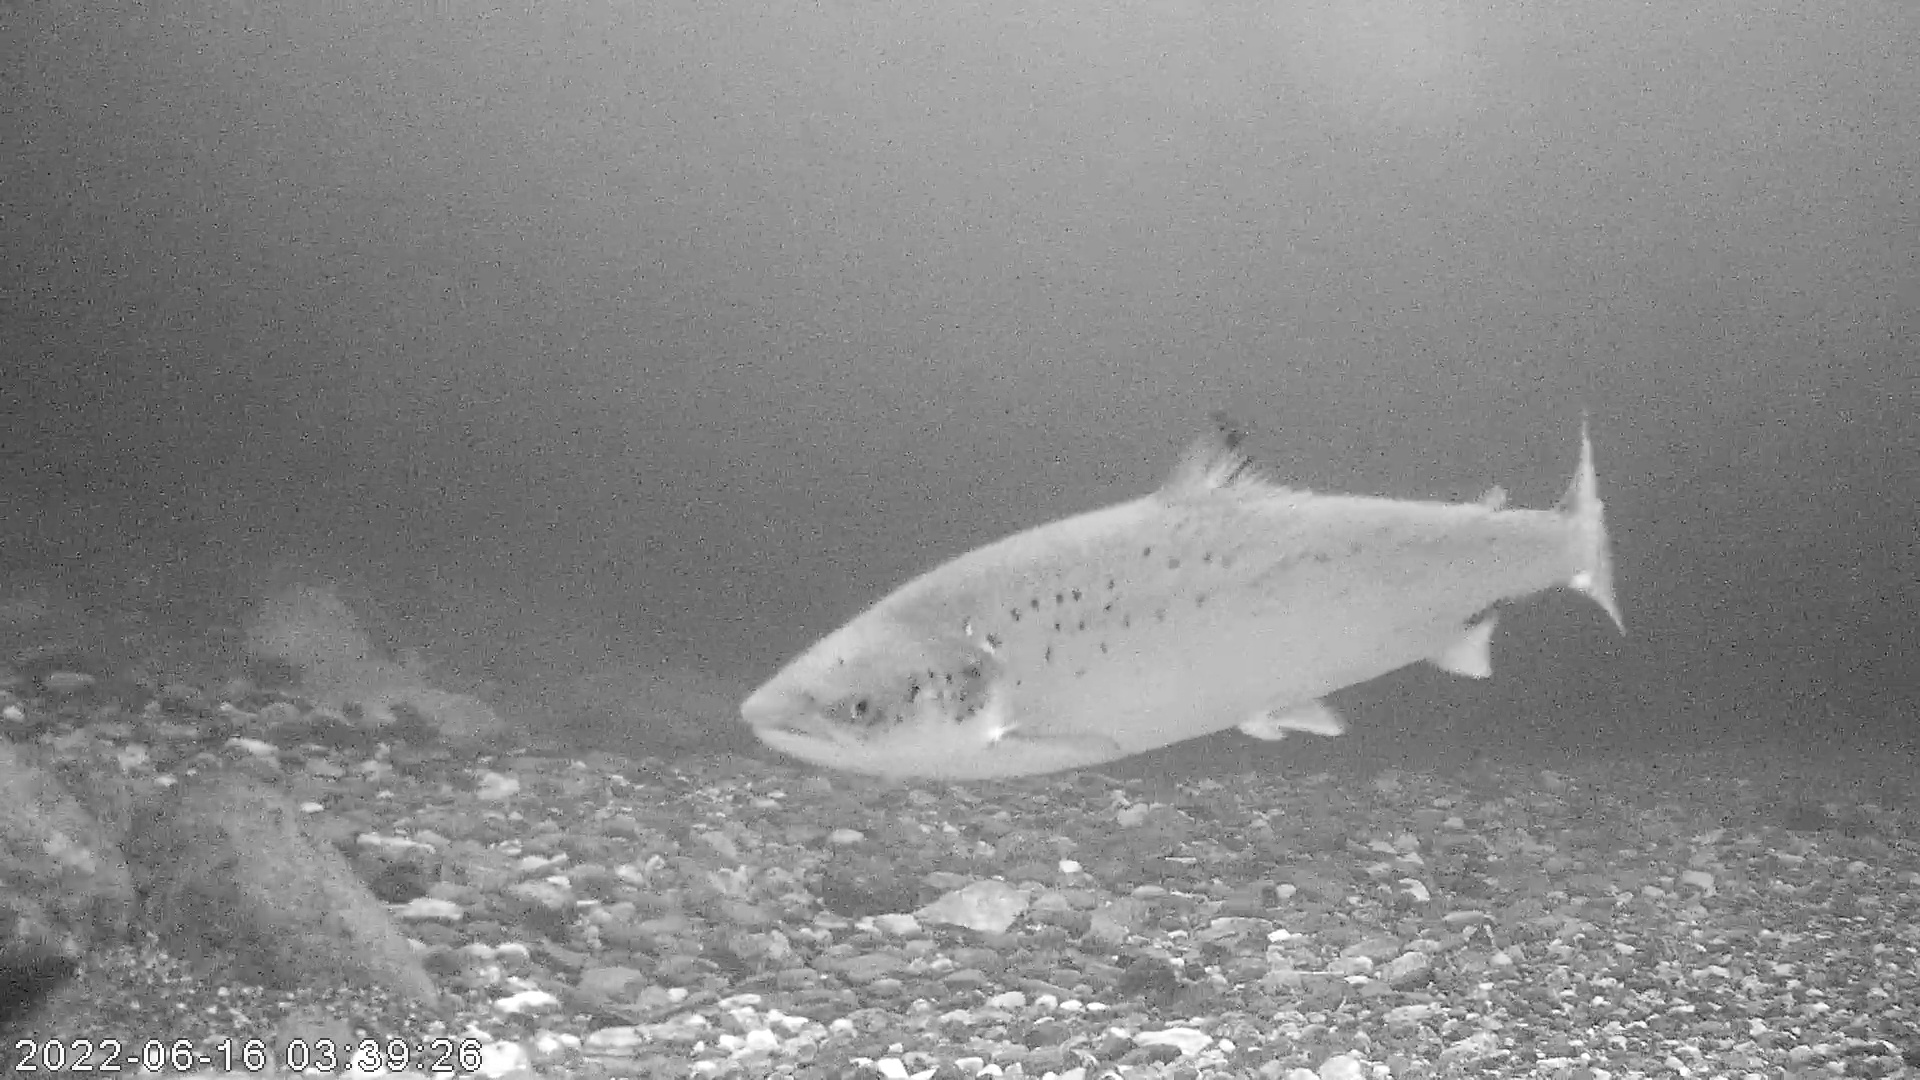salmon: (736, 407, 1633, 789)
